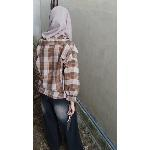Pisau: (64, 112, 77, 132)
